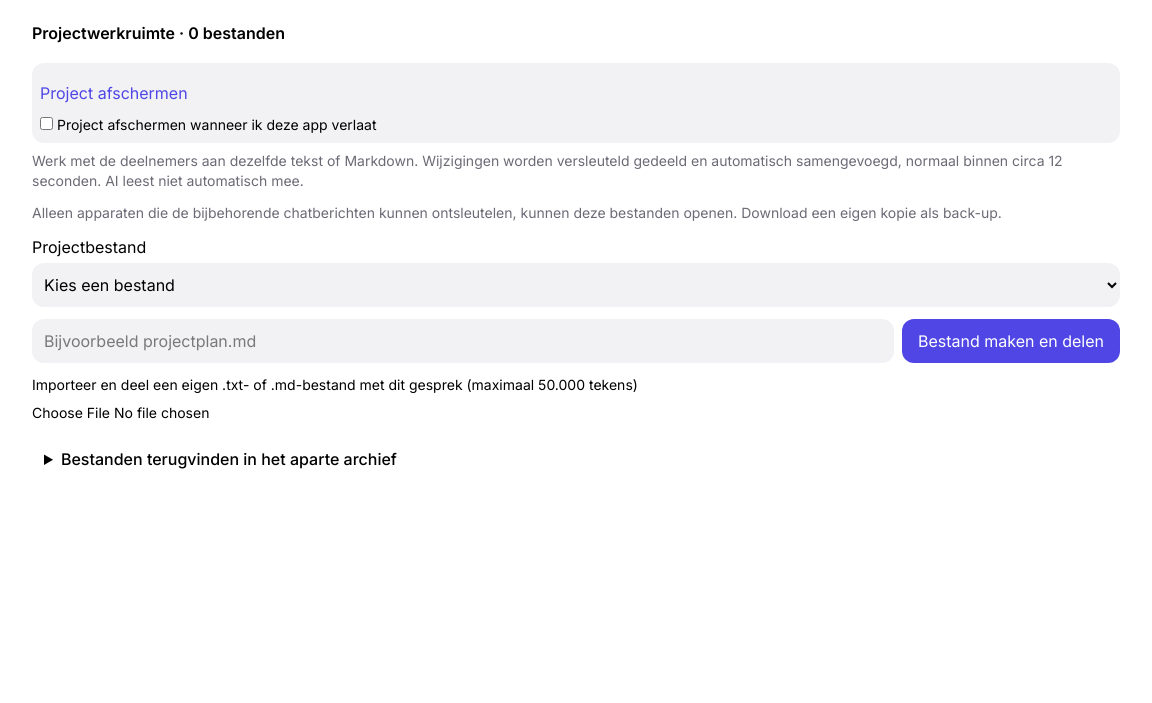
it: maakt vanuit de chat een bewerkbaar gedeeld bestand en bevestigt delen pas na opslag
This screenshot has width=1152, height=703.
Type "projectplan.md" into the field named "Naam nieuw projectbestand" at coordinates (463, 341), box [32,319,894,363]
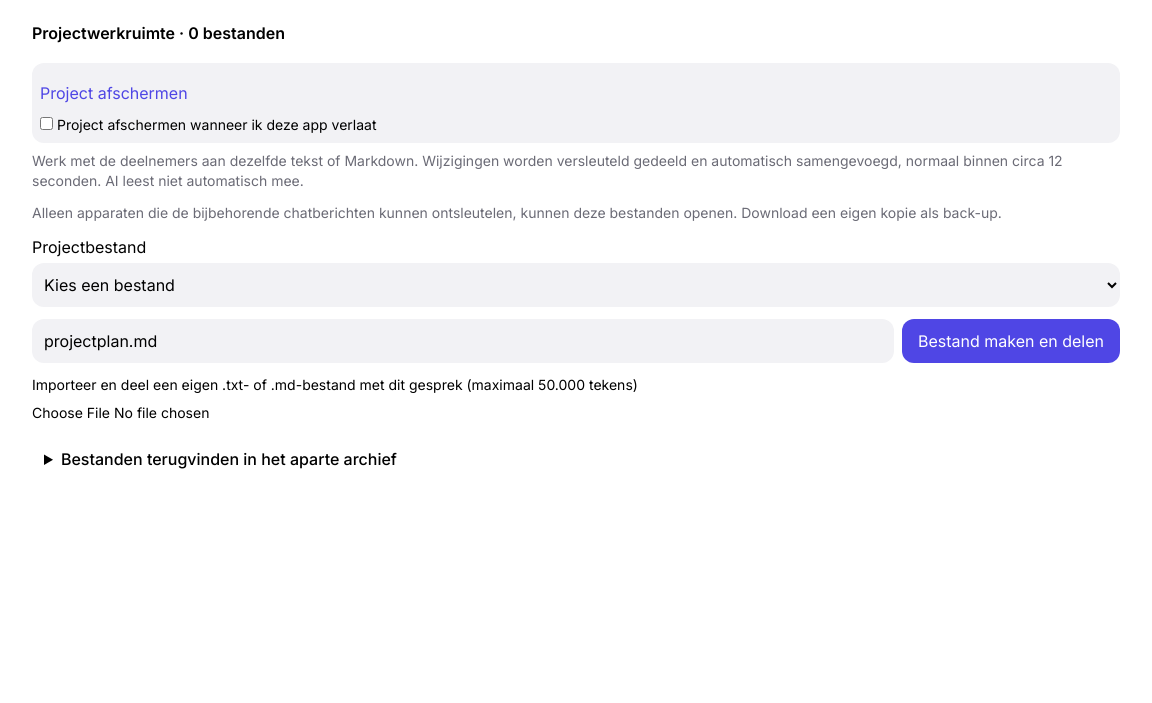
Click the button "Bestand maken en delen" at coordinates (1011, 341), box [902,319,1120,363]
(page scrolled)
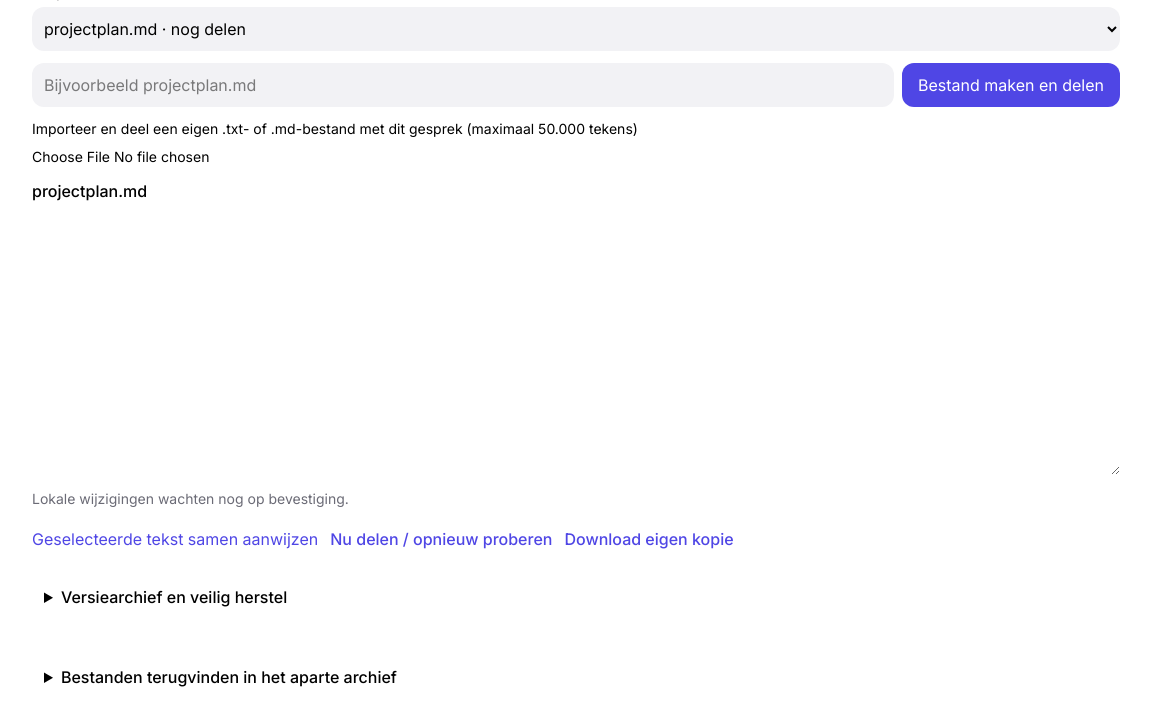
Type "Samen aan het plan" into the text box labelled "projectplan.md" at coordinates (576, 343), box [32,211,1120,475]
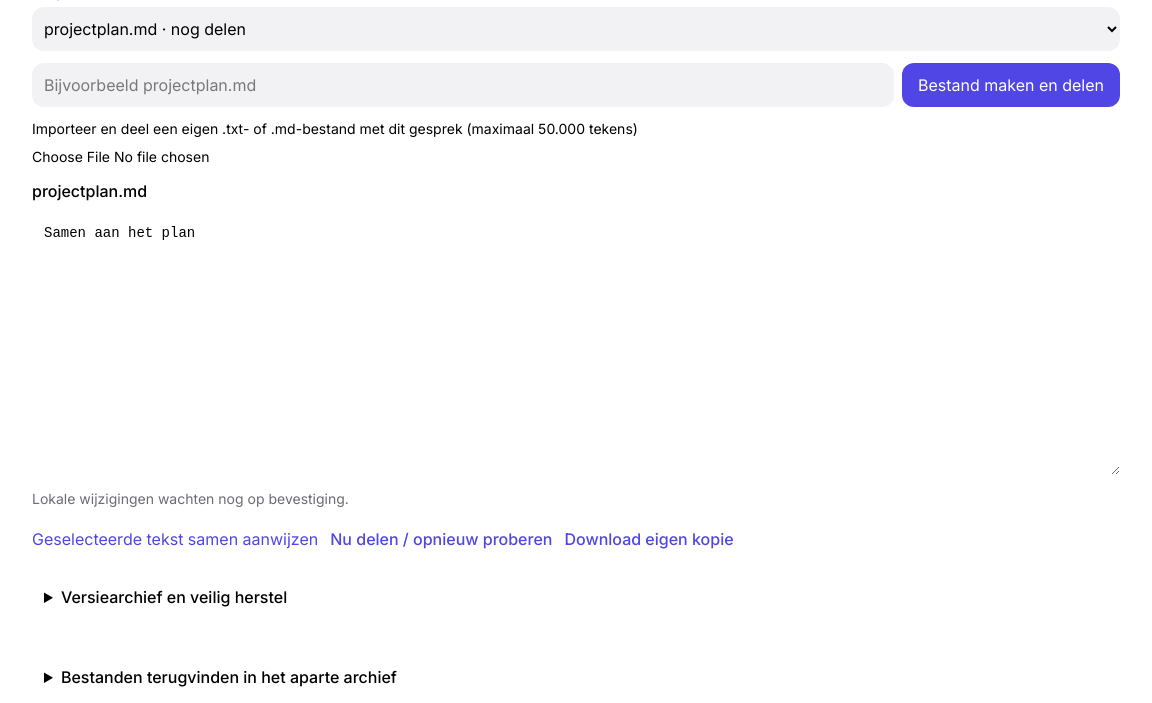
Result: the message shows "wachten nog" at [32,490,349,507]
Click the button "Nu delen / opnieuw proberen" at coordinates (441, 539), box [330,517,552,561]
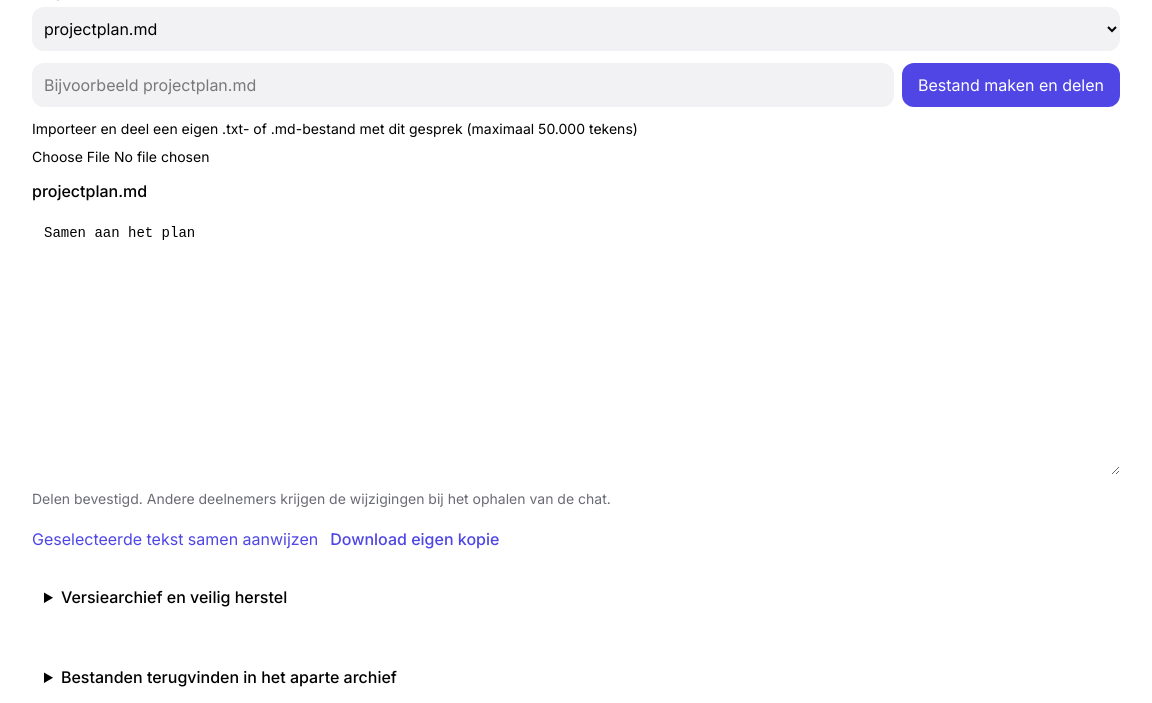
Result: the message shows "Delen bevestigd" at [32,490,611,507]
